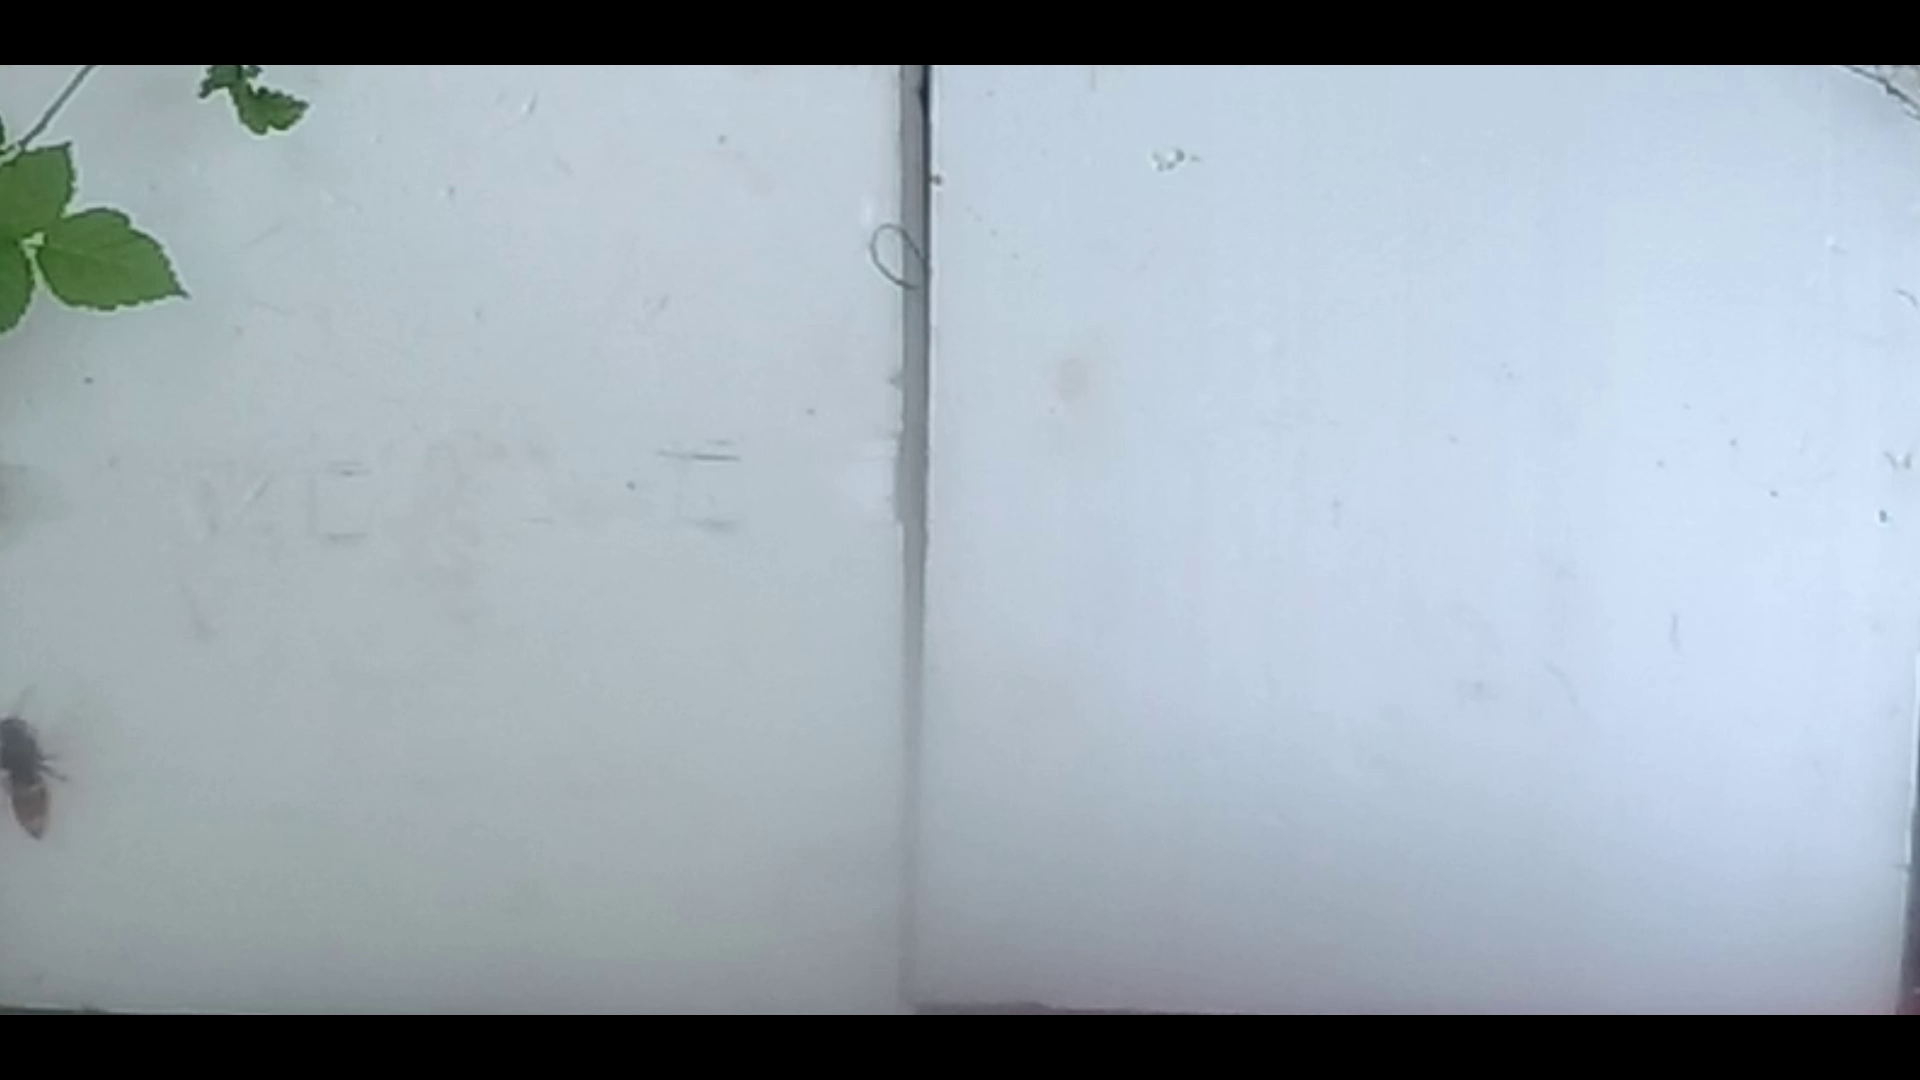Asian_hornets: (0, 662, 98, 845)
